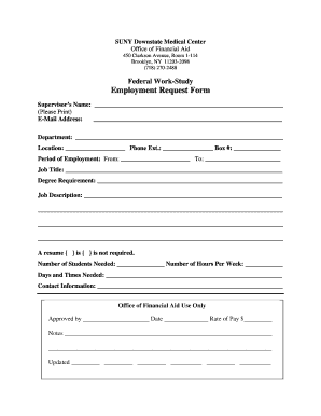textline: (34, 236, 286, 245), (66, 167, 287, 177), (85, 193, 291, 203), (33, 223, 287, 231), (93, 101, 289, 111), (73, 134, 285, 143), (47, 347, 275, 355), (91, 117, 286, 126), (97, 282, 287, 291), (65, 330, 275, 338), (31, 209, 285, 214), (97, 180, 287, 185), (105, 274, 285, 279), (206, 157, 281, 166), (121, 157, 194, 166), (64, 145, 127, 153), (82, 318, 150, 324), (170, 359, 204, 370), (116, 262, 166, 269), (204, 360, 237, 370), (163, 318, 209, 325), (136, 360, 168, 370), (162, 147, 213, 153), (234, 148, 285, 154), (238, 361, 276, 369), (102, 360, 133, 369), (244, 317, 275, 324), (245, 264, 286, 269), (69, 362, 101, 368)
